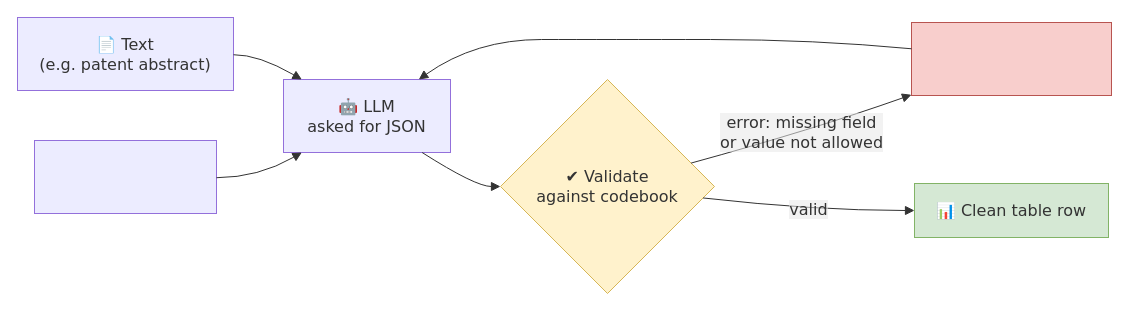
Image size: 1129x311. Some labels were removed from this diagram. Each missing label, with the box of its shape:
↩ Send error back, ask again: (910, 22, 1112, 96)
📋 Codebook (pydantic model): (34, 140, 216, 214)
